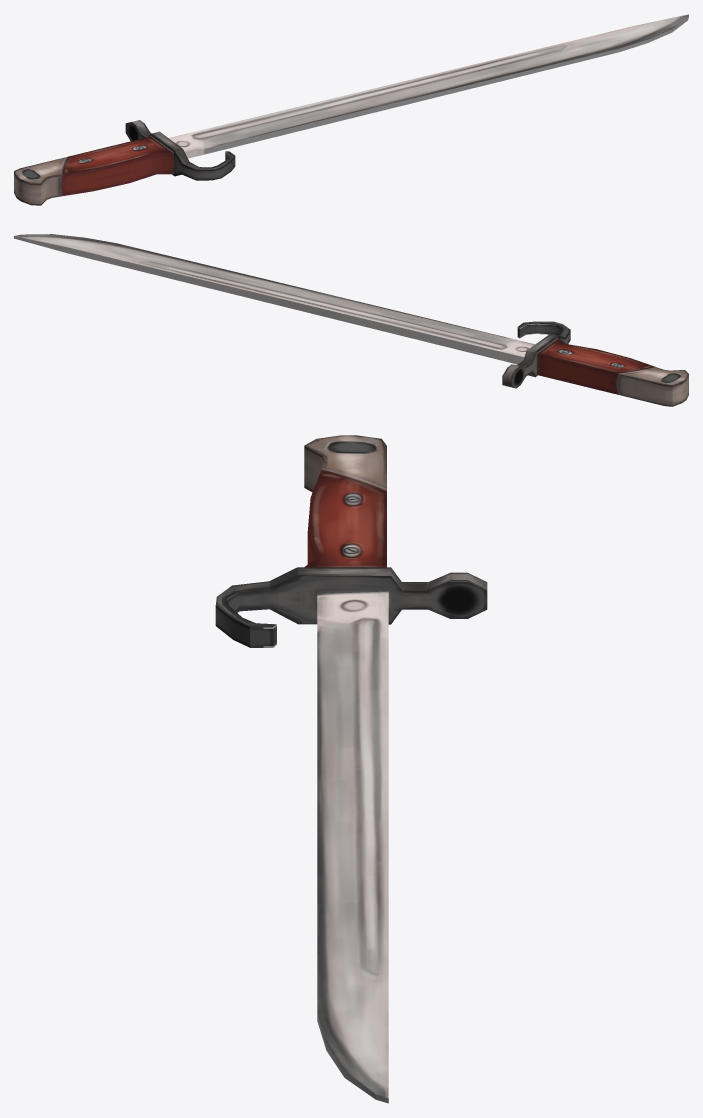
Rendered from W_Bayonet_Type30.fbx.
3 views of the same model, one above another, from view 1: azimuth 30°, elevation 25°; view 2: azimuth 150°, elevation 25°; view 3: azimuth 270°, elevation 25° (orthographic). The views are drawn at different scales.
Visible parts, largest first — view 1: Box163_Mesh; view 2: Box163_Mesh; view 3: Box163_Mesh.
Part boxes in pixels (box(x1,y1,x2,y2)): Box163_Mesh: box(14, 14, 688, 205); Box163_Mesh: box(14, 234, 688, 406); Box163_Mesh: box(215, 435, 487, 1103).
Bounding box in the file's own units: 41.26 × 1.45 × 7.34.
